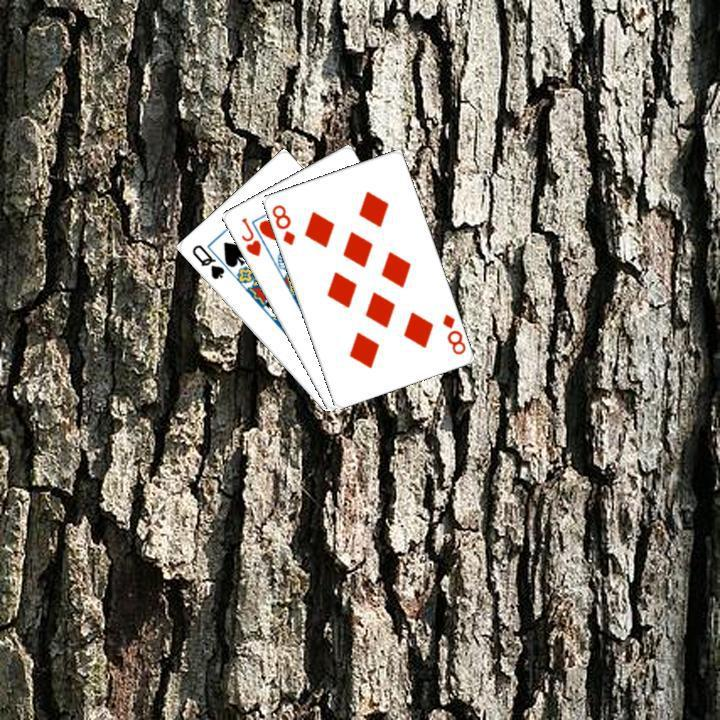8: (437, 309, 467, 357), (267, 200, 297, 247)
J: (236, 213, 263, 258)
Q: (187, 240, 226, 281)
